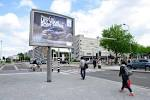board: (27, 7, 77, 86)
